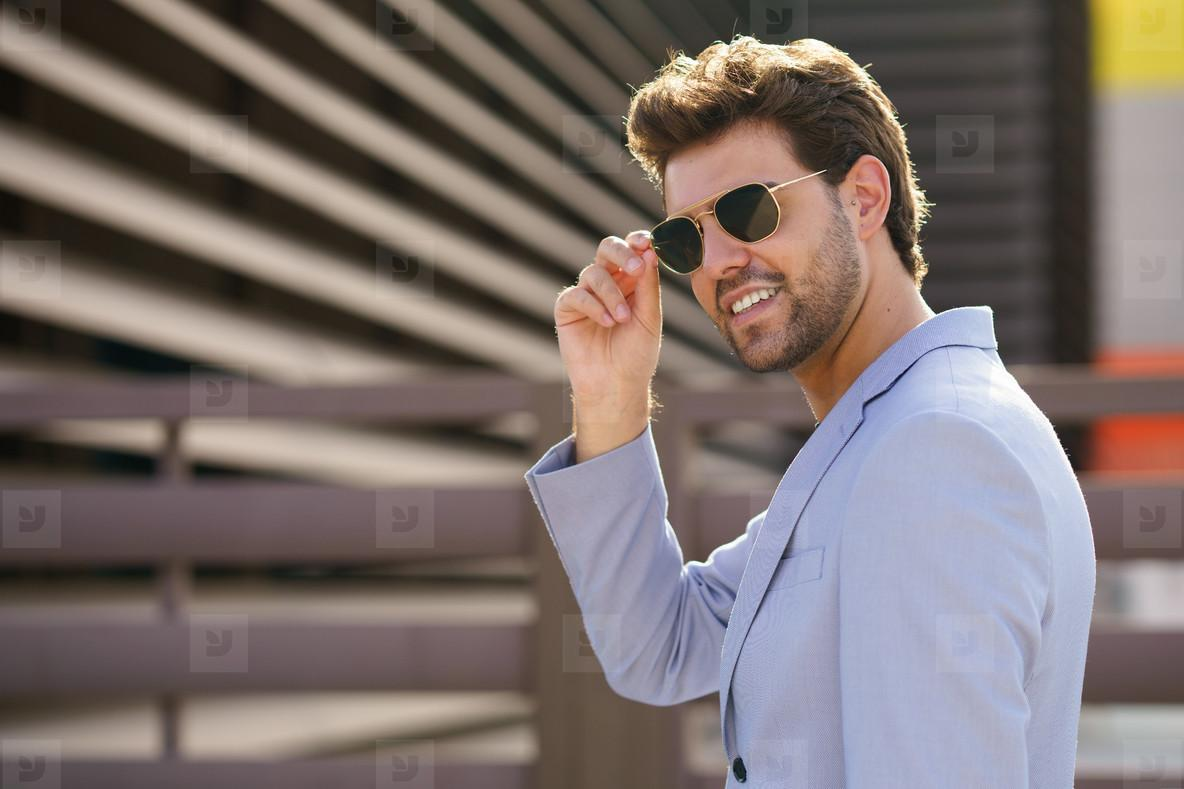sunglasses: (644, 172, 794, 282)
